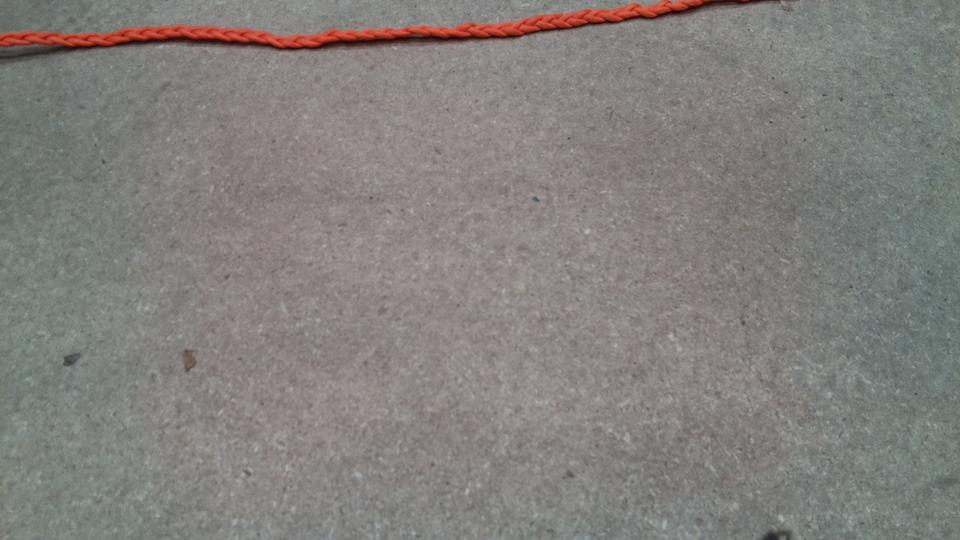rope: (1, 1, 694, 56)
